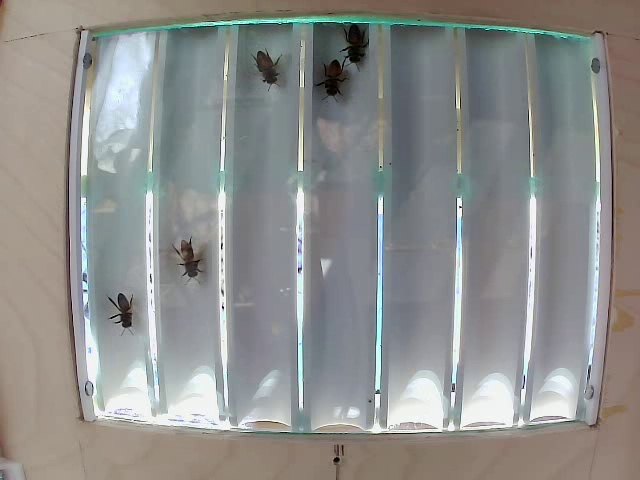bee: (162, 235, 217, 290), (110, 285, 152, 350), (257, 41, 292, 102), (317, 55, 352, 98), (343, 28, 377, 70)
